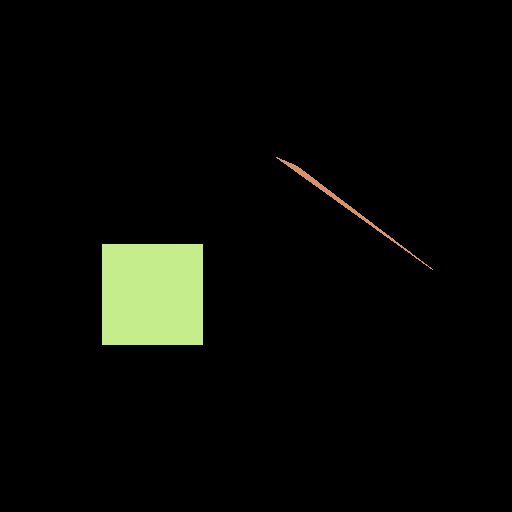square: (102, 244, 202, 344)
